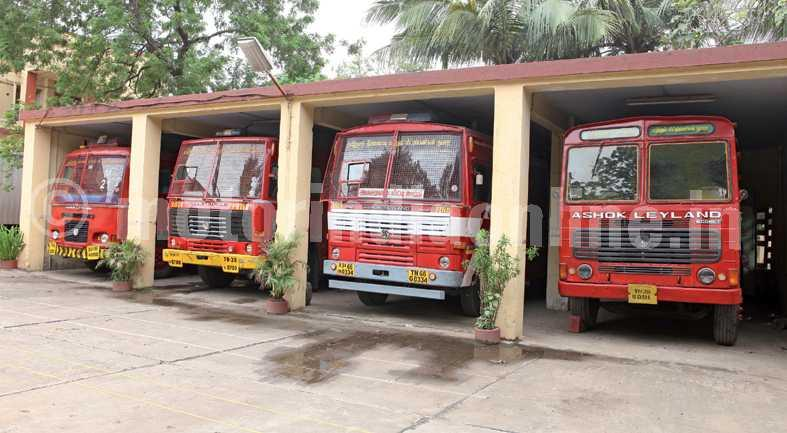Fire-engine: (550, 116, 757, 347), (323, 104, 487, 312), (160, 132, 277, 276), (46, 148, 122, 263)
